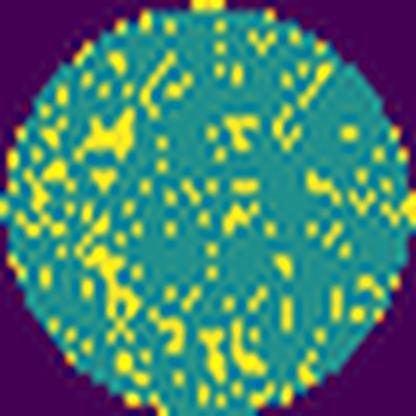Loc: (80, 215, 140, 325), (199, 318, 269, 385), (80, 108, 141, 152)
